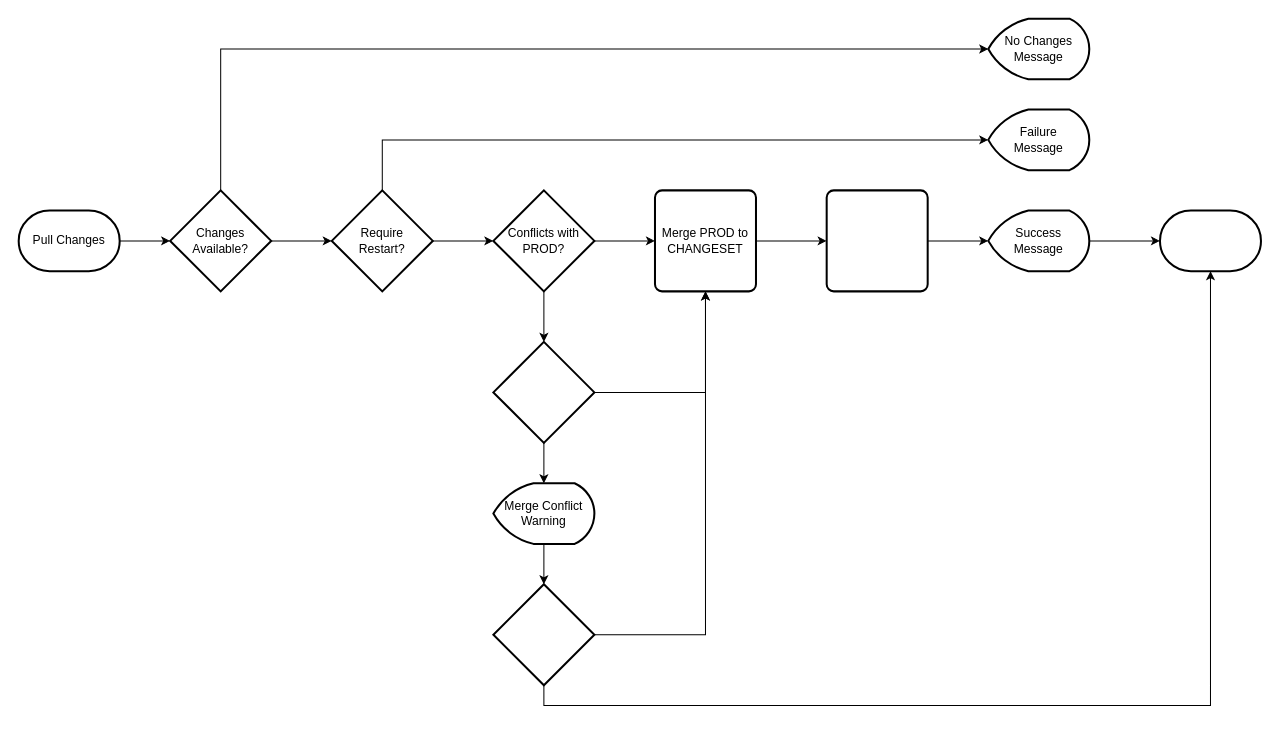
This 1279x731 diagram has some shape labels left out. Each missing label, with the centre of its shape:
Content Only?: (x=543, y=391)
Continue?: (x=543, y=634)
Dismiss Form: (x=1209, y=240)
Rebase EDIT onto CHANGESET: (x=876, y=240)
